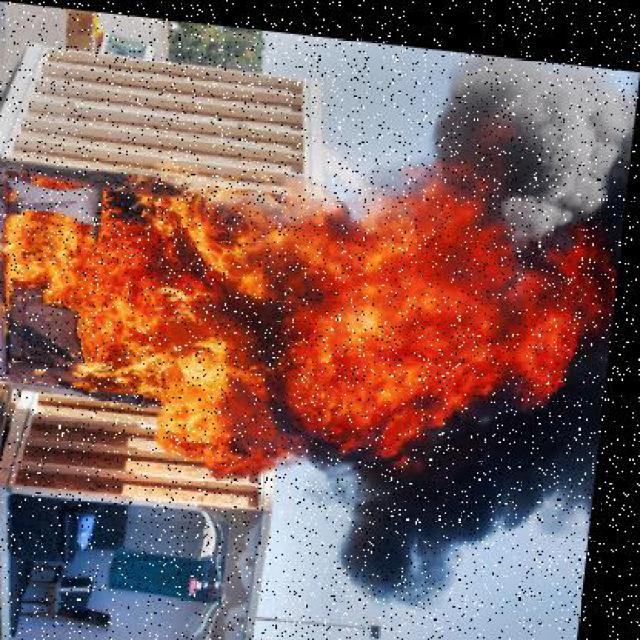fire: (1, 150, 597, 487)
